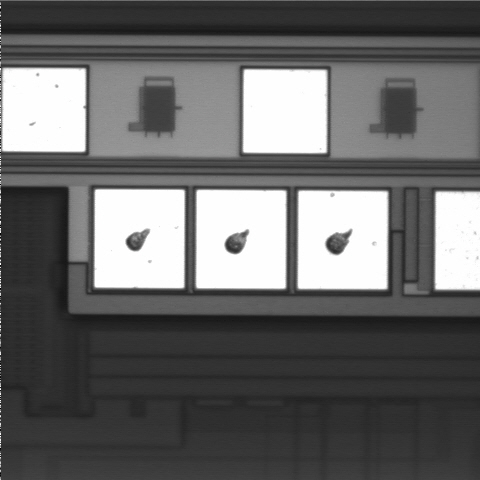pad: (94, 189, 185, 288), (196, 190, 286, 289), (298, 191, 388, 289), (2, 68, 86, 152), (243, 69, 327, 153)
